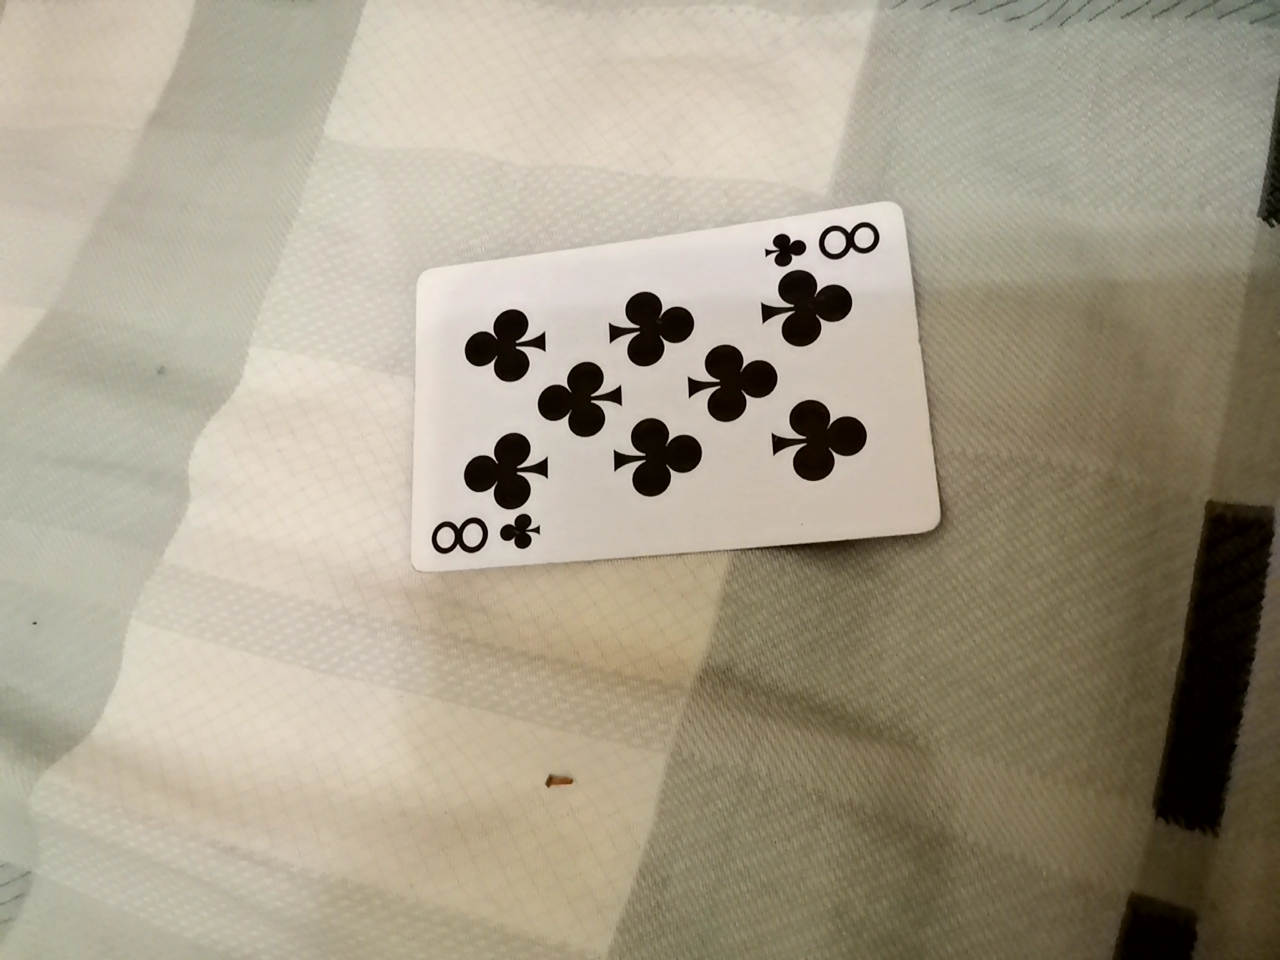mh 8: (383, 190, 932, 580)
